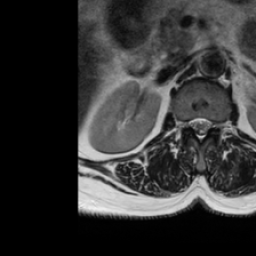CCS_normal: (196, 107, 204, 149)
LFS_stenosis: (212, 109, 220, 136)
LLS_stenosis: (204, 109, 212, 138)
RFS_stenosis: (182, 110, 188, 136)
RLS_normal: (188, 109, 196, 138)
